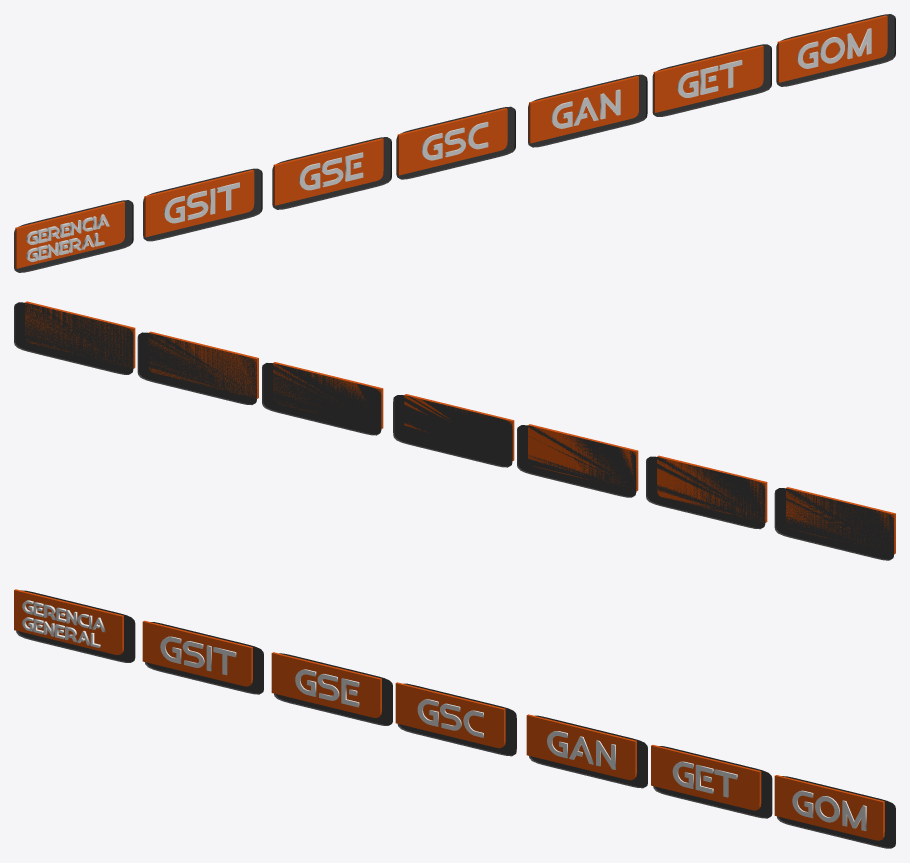
The model's file is LETREROS.fbx.
3 views of the same model, one above another, from view 1: azimuth 30°, elevation 25°; view 2: azimuth 150°, elevation 25°; view 3: azimuth 330°, elevation 25° (orthographic).
Visible parts, largest first — view 1: Plane.011, Plane.007, Plane.009, Plane.005, Plane.002, Plane.013, Plane.001, Text, Plane, Plane.006, Plane.003, Plane.004 (+9 smaller); view 2: Plane.012, Plane.008, Plane, Plane.010, Plane.006, Plane.003, Plane.004, Plane.011, Plane.005, Plane.002, Plane.013, Plane.001 (+2 smaller); view 3: Plane.011, Plane.007, Plane.005, Plane.002, Plane.009, Plane.013, Plane.001, Text, Plane.006, Plane.010, Plane, Plane.012 (+9 smaller).
Boxes of the visible parts, box(x1,y1,x2,y2) form: Plane.011: box(653, 45, 763, 112); Plane.007: box(397, 108, 507, 175); Plane.009: box(529, 76, 638, 143); Plane.005: box(273, 138, 383, 205); Plane.002: box(144, 170, 254, 237); Plane.013: box(777, 15, 887, 82); Plane.001: box(15, 201, 124, 268); Text: box(26, 214, 109, 261); Plane: box(14, 200, 133, 272); Plane.006: box(396, 106, 515, 179); Plane.003: box(143, 168, 262, 241); Plane.004: box(272, 137, 391, 209); Plane.012: box(14, 302, 133, 374); Plane.008: box(262, 363, 381, 435); Plane: box(774, 488, 893, 560); Plane.010: box(137, 332, 256, 404); Plane.006: box(393, 395, 512, 467); Plane.003: box(646, 456, 765, 529); Plane.004: box(517, 425, 636, 497); Plane.011: box(148, 331, 258, 398); Plane.005: box(528, 424, 638, 491); Plane.002: box(657, 455, 767, 522); Plane.013: box(25, 301, 135, 368); Plane.001: box(786, 487, 895, 554); Plane.011: box(651, 745, 761, 810); Plane.007: box(395, 682, 505, 748); Plane.005: box(271, 652, 381, 717); Plane.002: box(142, 620, 252, 686); Plane.009: box(526, 714, 636, 780); Plane.013: box(774, 775, 884, 840); Plane.001: box(14, 589, 123, 654); Text: box(22, 600, 105, 647); Plane.006: box(397, 683, 516, 756); Plane.010: box(653, 746, 772, 818); Plane: box(16, 590, 135, 662); Plane.012: box(777, 776, 895, 848).
Size of the model in its own units: 38.94 by 2.01 by 0.3293.
